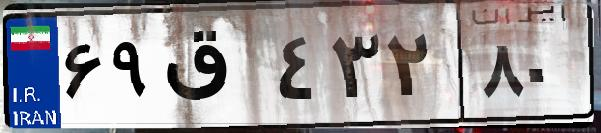0: (525, 38, 570, 115)
2: (385, 28, 445, 110)
3: (330, 28, 385, 110)
4: (270, 28, 330, 110)
6: (57, 26, 110, 100)
8: (475, 38, 525, 113)
9: (110, 28, 158, 98)
ق: (158, 20, 270, 120)
